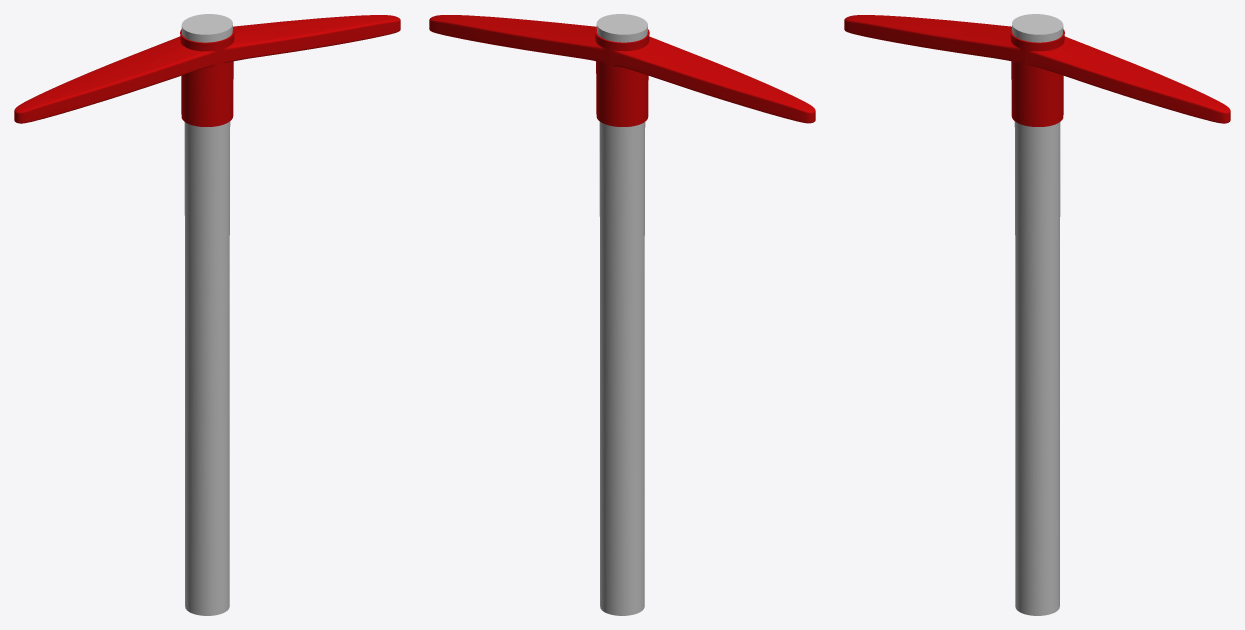
Rendered from pickaxe.obj.
3 views of the same model, side by side, from view 1: azimuth 30°, elevation 25°; view 2: azimuth 150°, elevation 25°; view 3: azimuth 330°, elevation 25° (orthographic).
Parts seen in each view (by area): view 1: Cylinder; view 2: Cylinder; view 3: Cylinder.
Boxes of the visible parts, box(x1,y1,x2,y2) form: Cylinder: box(14, 14, 400, 615); Cylinder: box(429, 14, 815, 615); Cylinder: box(844, 14, 1230, 615).
Size of the model in its own units: 10 by 14.47 by 1.17.
